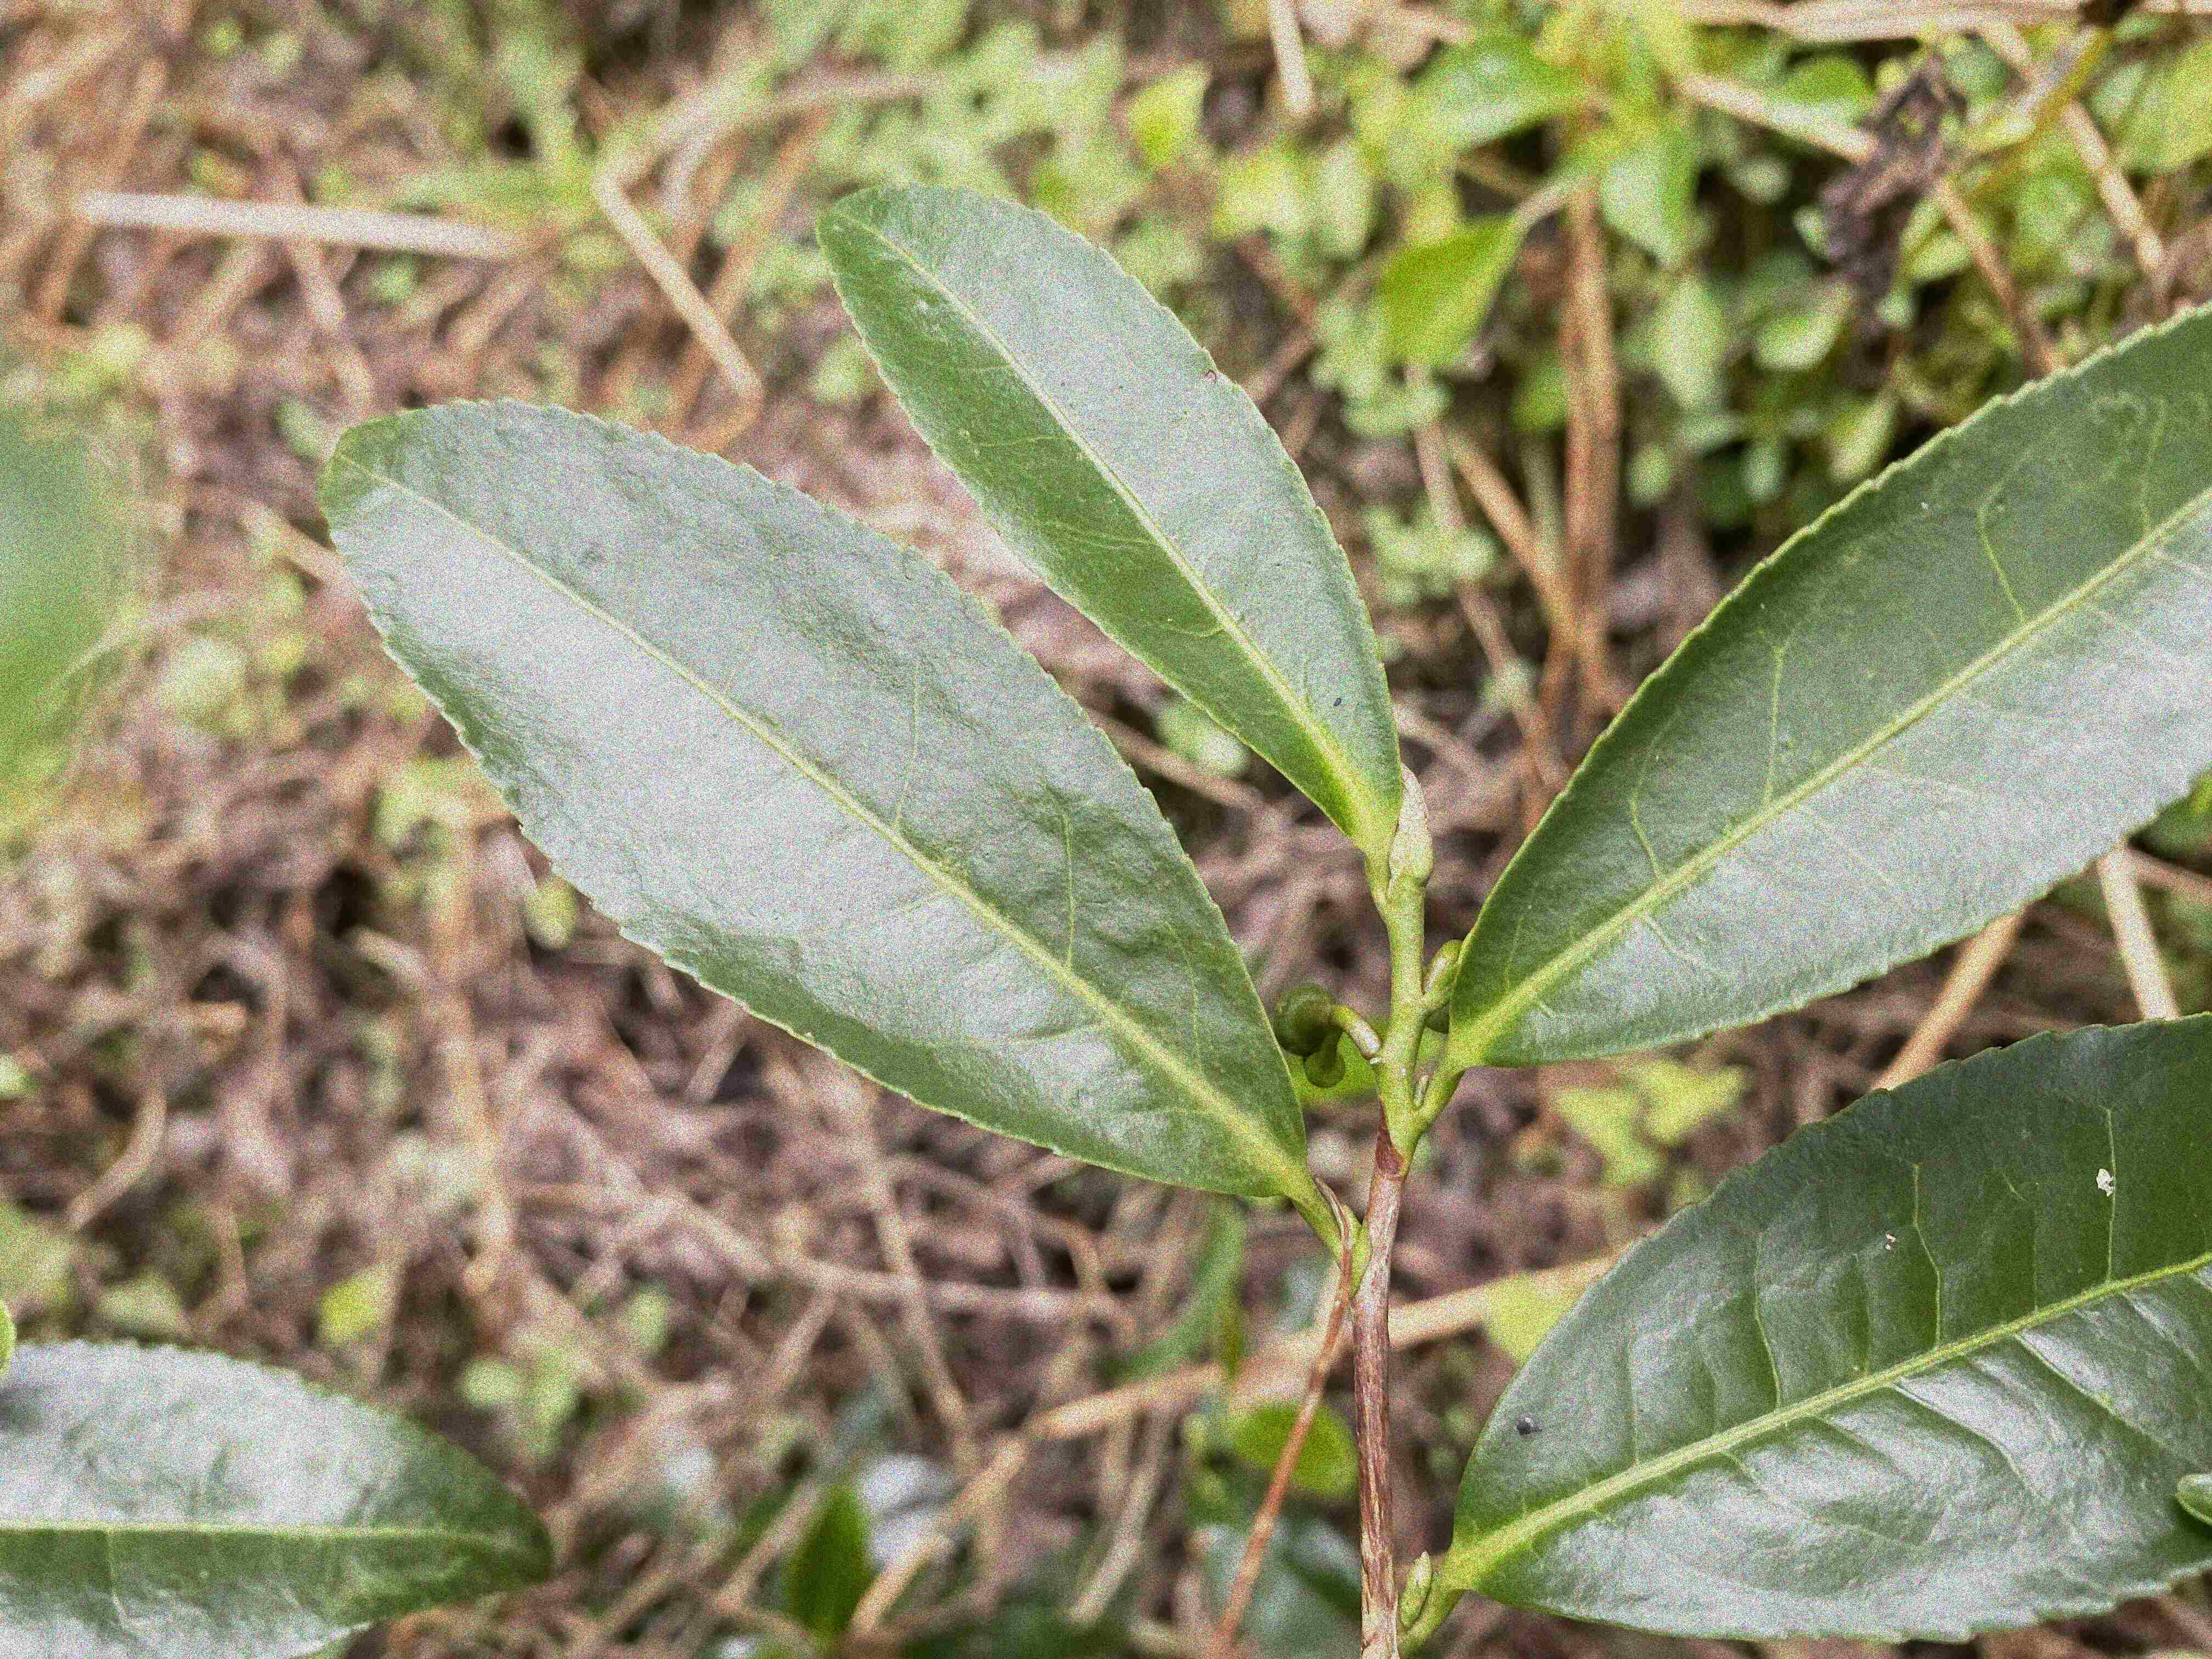healthy: (312, 397, 1312, 1201), (1451, 307, 2209, 1070)
tanju_low: (1451, 1012, 2209, 1647), (812, 179, 1400, 847)
